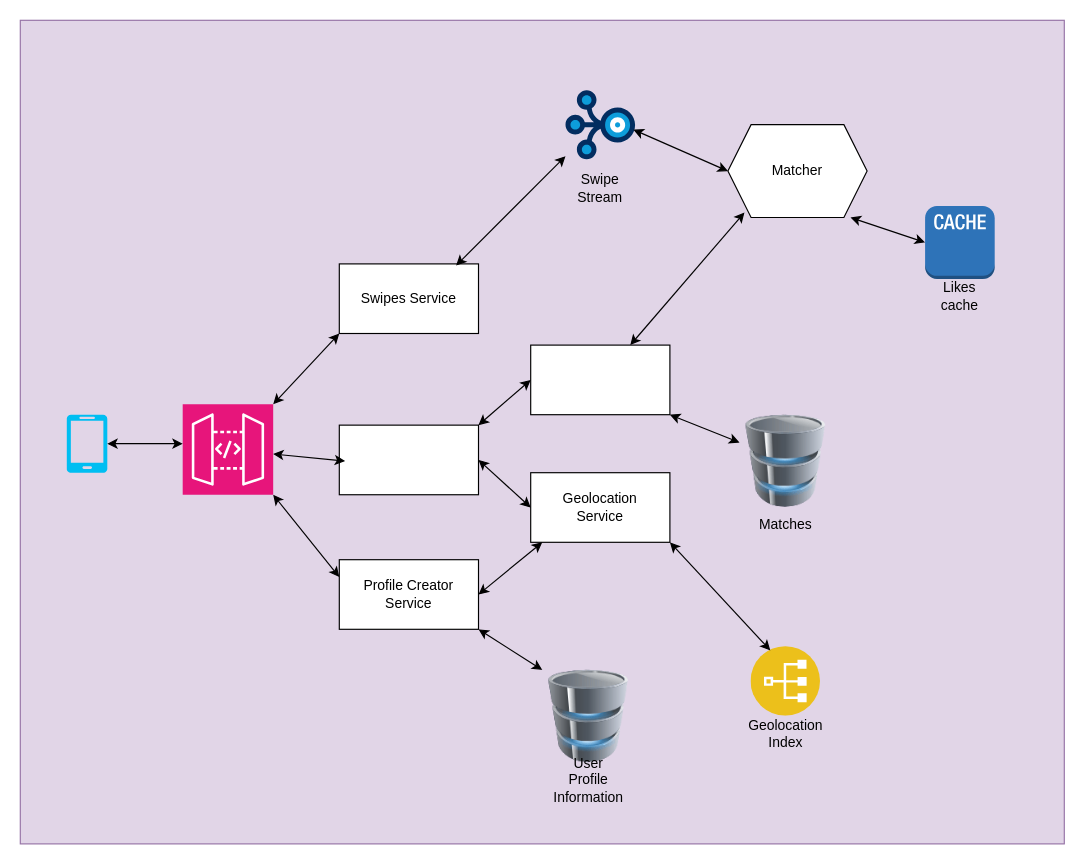
Image size: 1085x864. Some labels were removed from this diagram. Each missing label, with the centre of its shape:
Matches Service: the point at 600,379
Recommendation Service: the point at 408,459
